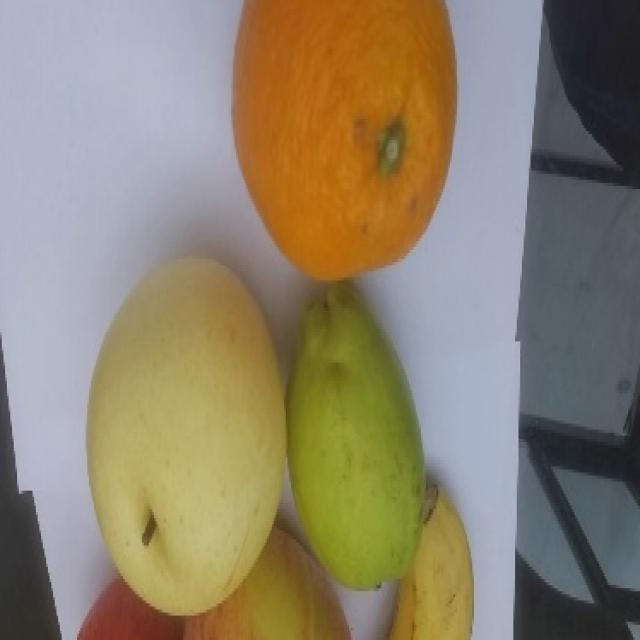Banana: (388, 482, 474, 639)
Orange: (230, 0, 458, 281)
